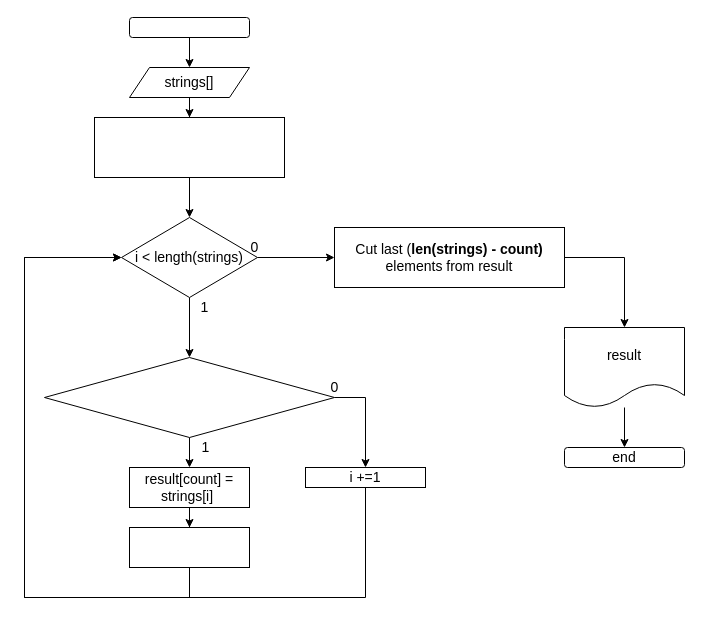
The diagram is 702 pixels wide and 623 high, and some of its shapes have lost their labels. Each missing label, with the centre of its shape:
Begin: (x=189, y=27)
count +=1 i +=1: (x=189, y=547)
length(strings [i] )<=3: (x=189, y=397)
result[len(strings)] = "" i = 0 count = 0: (x=189, y=147)
